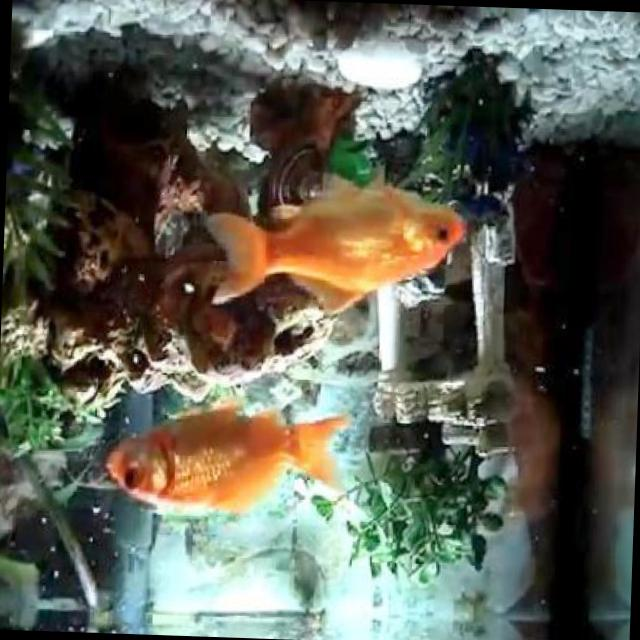GoldFish: (205, 163, 466, 318), (102, 392, 346, 526)
